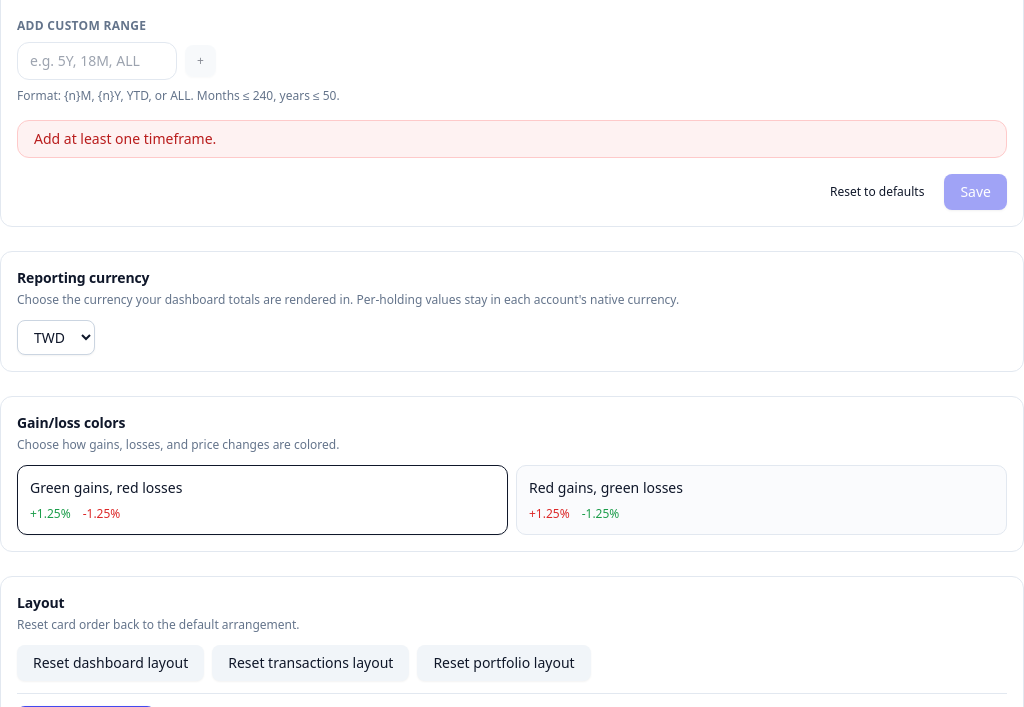
Test: DisplayTabSection — reporting currency selector (KZO-180) › PATCHes /user-preferences with gain/loss color convention and applies it immediately
(page scrolled)
Click the radio button with test id "display-price-color-convention-gain_red_loss_green". click: [606, 488]
box: [516,465,1007,535]
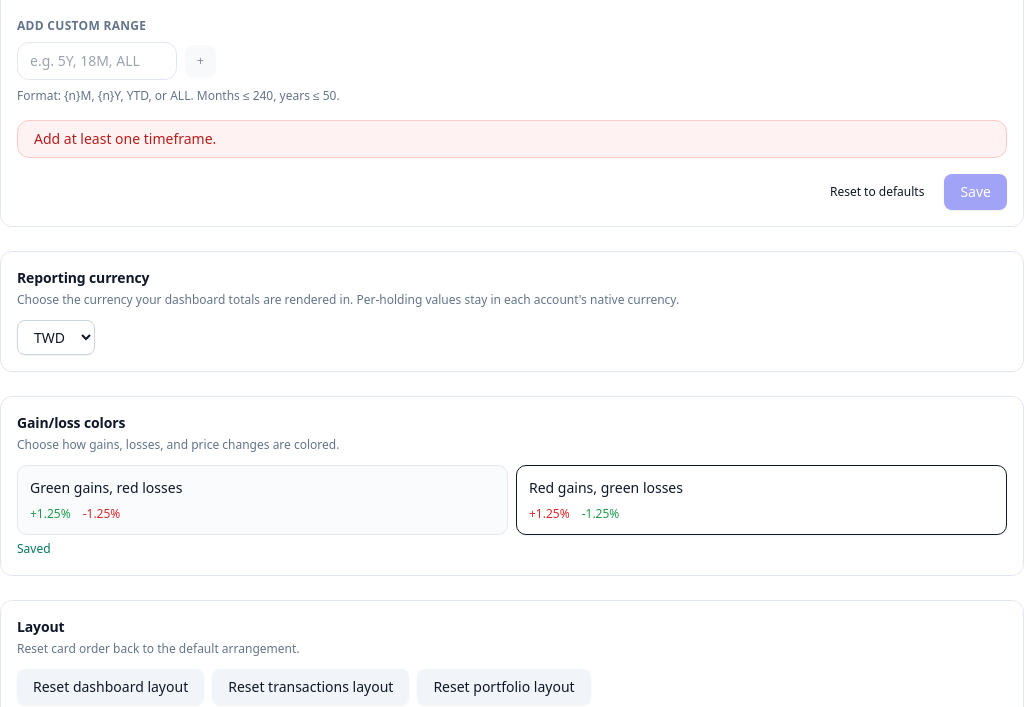
Expected: the message with test id "price-color-convention-saved" reads "Saved", [17,540,51,557]
